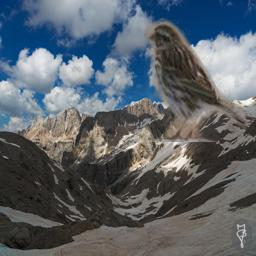Sparrow: (144, 18, 249, 142)
